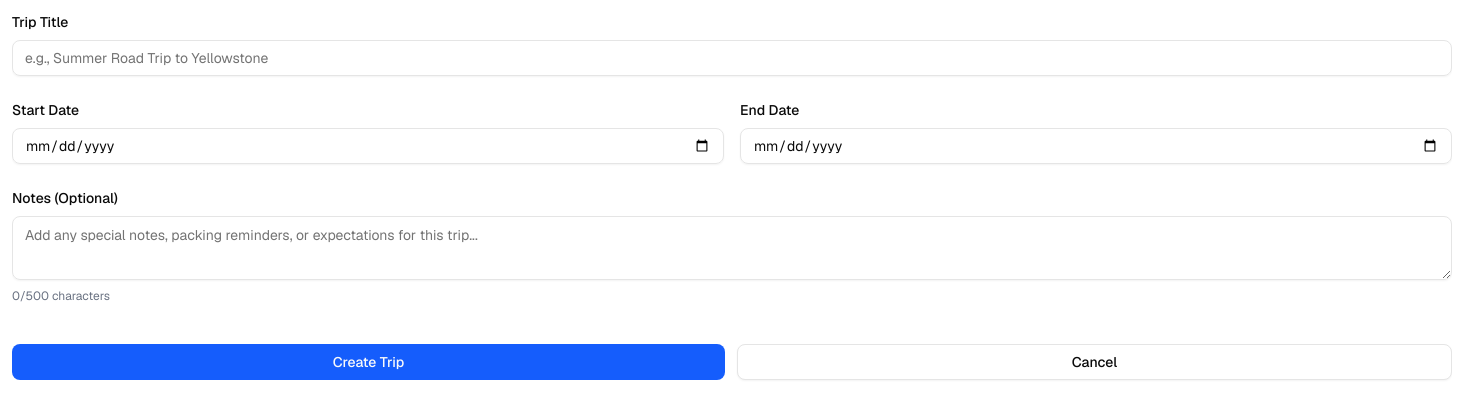
Test: TripForm Component › Error Message Display › should show character counter for notes
Check: the text "0/500 characters" is shown, box [12,288,110,304]
Type "Test notes" into the text box labelled "Notes (Optional)" at (732, 248), box [12,216,1452,280]
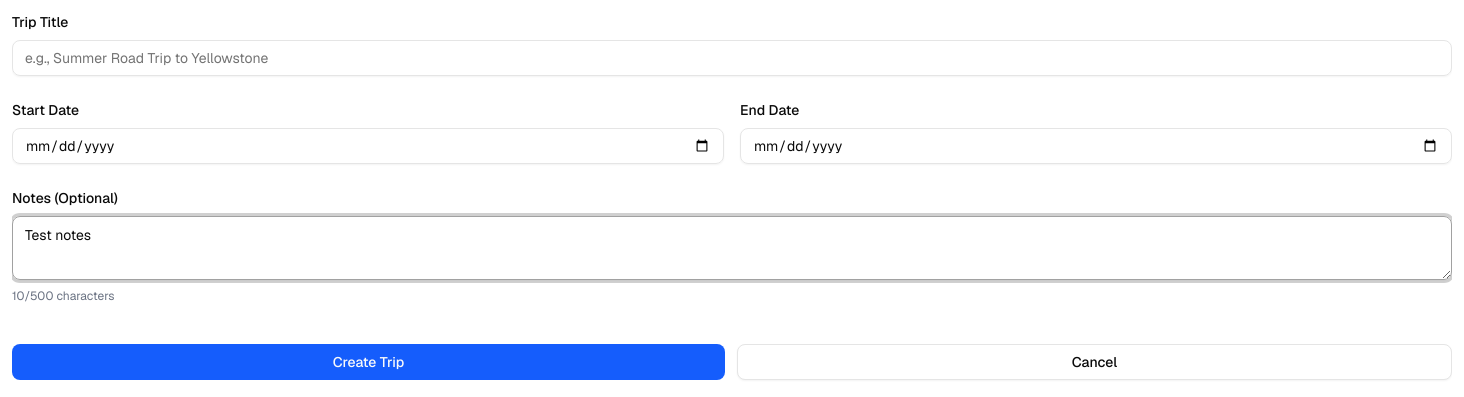
Check: the text "10/500 characters" is shown, box [12,288,114,304]
